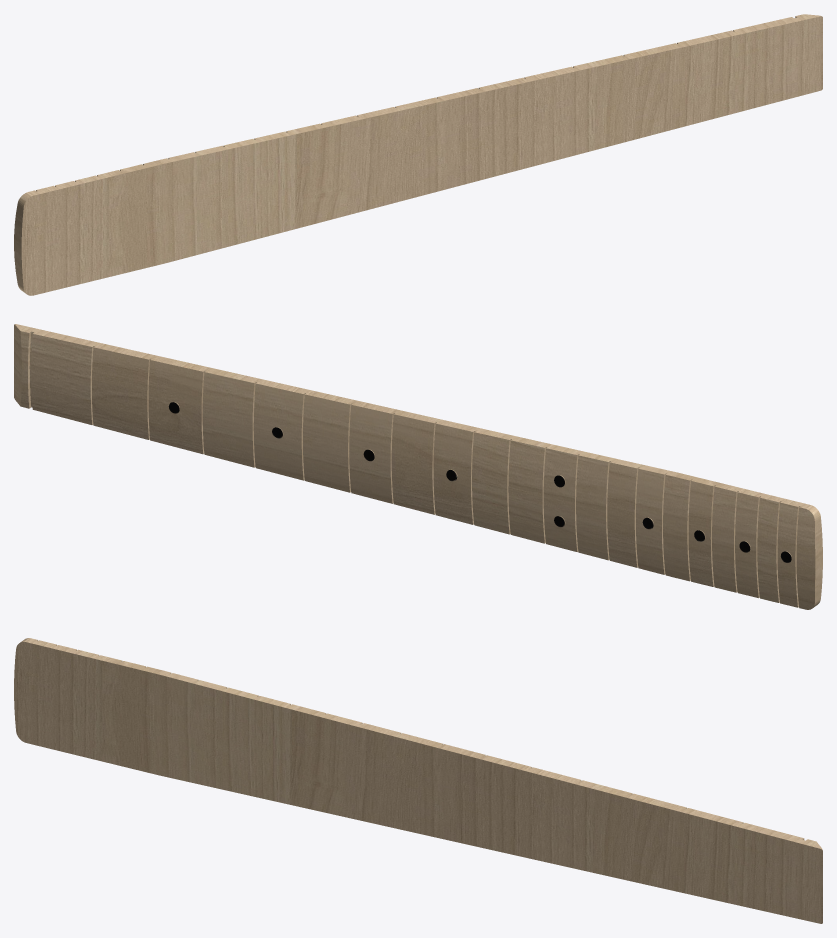
The model's file is maple_finger.dae.
The picture shows the model from 3 angles, top to bottom: view 1: azimuth 30°, elevation 25°; view 2: azimuth 150°, elevation 25°; view 3: azimuth 330°, elevation 25°; orthographic projection.
Parts seen in each view (by area): view 1: maple_fingerboard; view 2: maple_fingerboard; view 3: maple_fingerboard.
Boxes of the visible parts, x1,y1,x2,y2 form: maple_fingerboard: [14, 14, 822, 295]; maple_fingerboard: [14, 324, 822, 609]; maple_fingerboard: [14, 638, 822, 923].
Bounding box in the file's own units: 480 × 8.3 × 57.24.
1 material, 1 textured.
